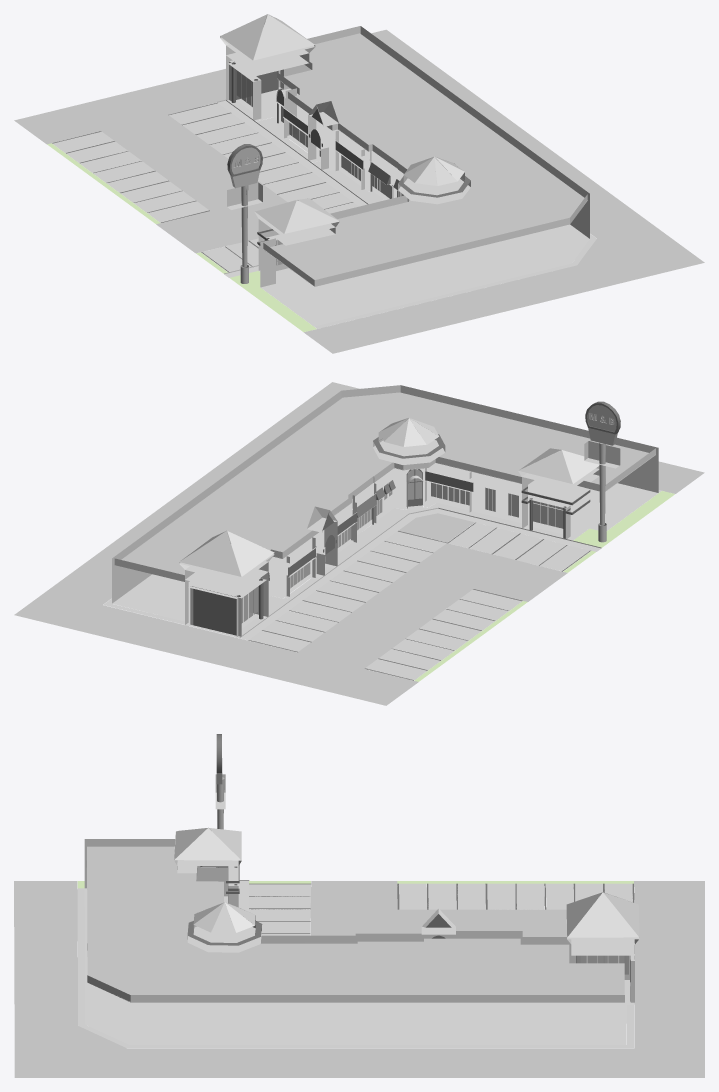
The model's file is sp-prop-bigbox-1L-220ft.glb.
3 views of the same model, one above another, from view 1: azimuth 30°, elevation 25°; view 2: azimuth 150°, elevation 25°; view 3: azimuth 270°, elevation 25° (orthographic). The views are drawn at different scales.
Visible parts, largest first — view 1: 3DGeom-3, 3DGeom-2, 3DGeom-4, 3DGeom-1, 3DGeom-42, 3DGeom-45, 3DGeom-8; view 2: 3DGeom-3, 3DGeom-2, 3DGeom-4, 3DGeom-1, 3DGeom-8, 3DGeom-42, 3DGeom-45; view 3: 3DGeom-3, 3DGeom-2, 3DGeom-4, 3DGeom-1, 3DGeom-42, 3DGeom-8.
Part boxes in pixels (bbox=[...]): 3DGeom-3: bbox=[14, 14, 704, 353]; 3DGeom-2: bbox=[217, 26, 589, 326]; 3DGeom-4: bbox=[53, 14, 596, 328]; 3DGeom-1: bbox=[52, 61, 470, 272]; 3DGeom-42: bbox=[47, 143, 316, 332]; 3DGeom-45: bbox=[230, 147, 260, 283]; 3DGeom-8: bbox=[236, 70, 399, 265]; 3DGeom-3: bbox=[14, 382, 704, 705]; 3DGeom-2: bbox=[112, 385, 658, 640]; 3DGeom-4: bbox=[103, 418, 661, 679]; 3DGeom-1: bbox=[192, 401, 620, 680]; 3DGeom-8: bbox=[241, 469, 564, 623]; 3DGeom-42: bbox=[414, 491, 674, 681]; 3DGeom-45: bbox=[587, 405, 617, 542]; 3DGeom-3: bbox=[14, 828, 704, 1077]; 3DGeom-2: bbox=[84, 774, 639, 1044]; 3DGeom-4: bbox=[77, 827, 638, 1047]; 3DGeom-1: bbox=[187, 734, 634, 1001]; 3DGeom-42: bbox=[77, 881, 633, 888]; 3DGeom-8: bbox=[228, 868, 628, 974].
Size of the model in its own units: 46.33 by 15.97 by 66.99.
